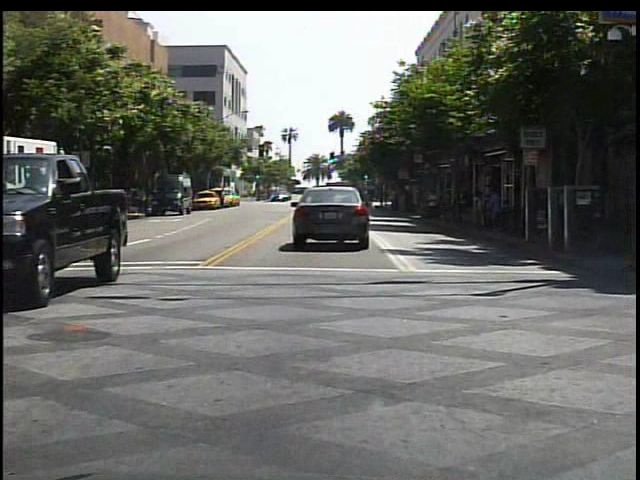person: (424, 185, 443, 222)
